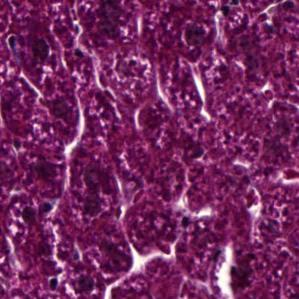inflammation: (180, 17, 213, 50)
